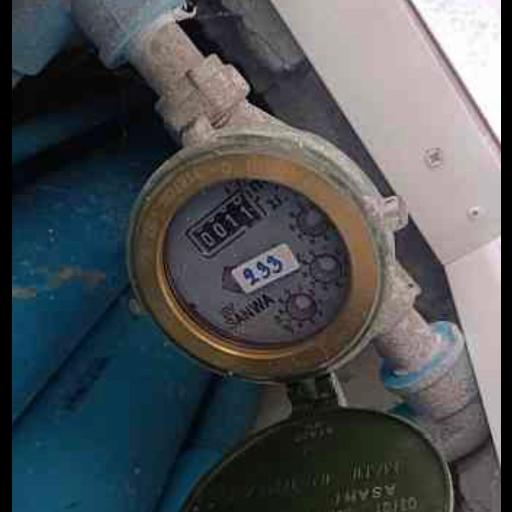0: (190, 222, 220, 254), (202, 213, 232, 244)
1: (227, 193, 263, 230), (215, 203, 245, 234)
border_water_meter_number: (182, 183, 269, 263)
